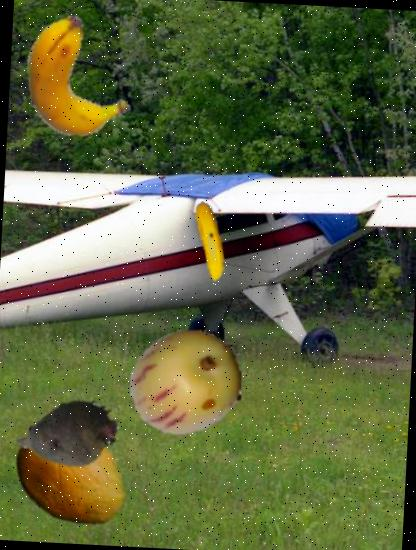Banana: (13, 12, 141, 140), (169, 198, 254, 283)
Beetroot: (12, 380, 124, 492)
Papaya: (7, 410, 136, 539)
Pepino: (128, 324, 244, 441)
